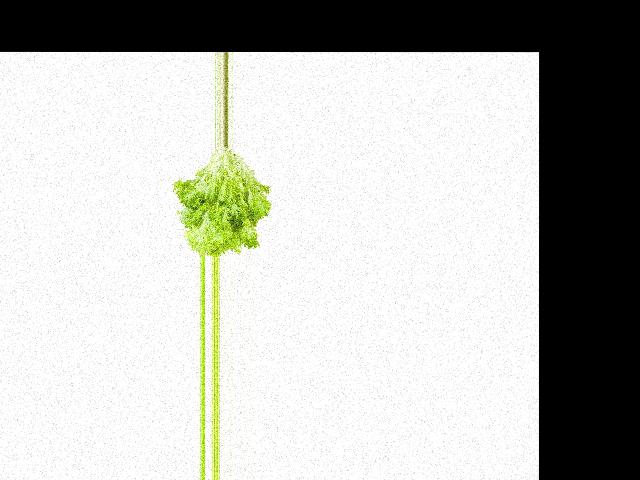lettuce: (172, 144, 276, 255)
